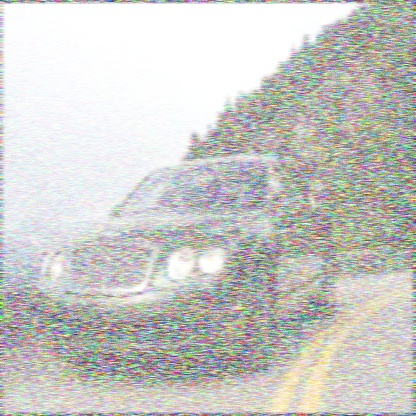Vehicle: (30, 158, 344, 383)
